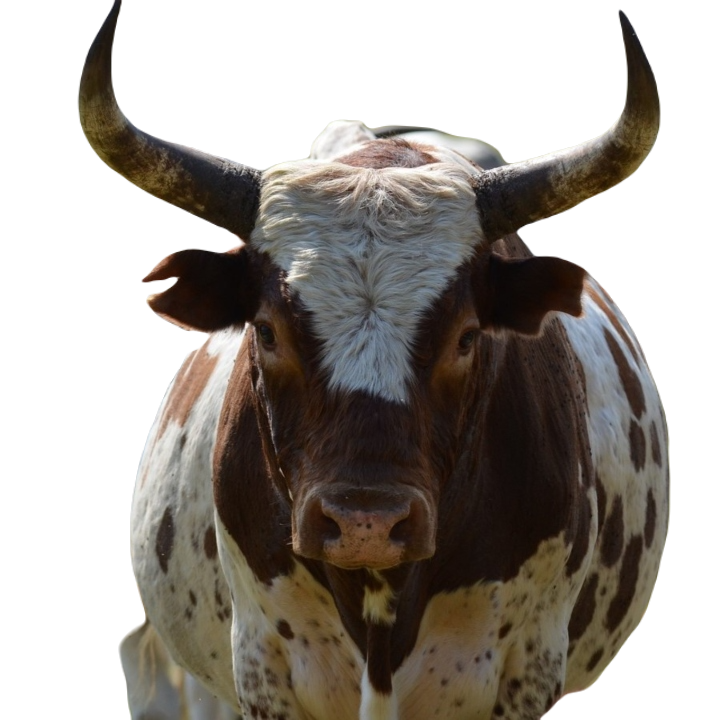Cow: (76, 0, 672, 719)
